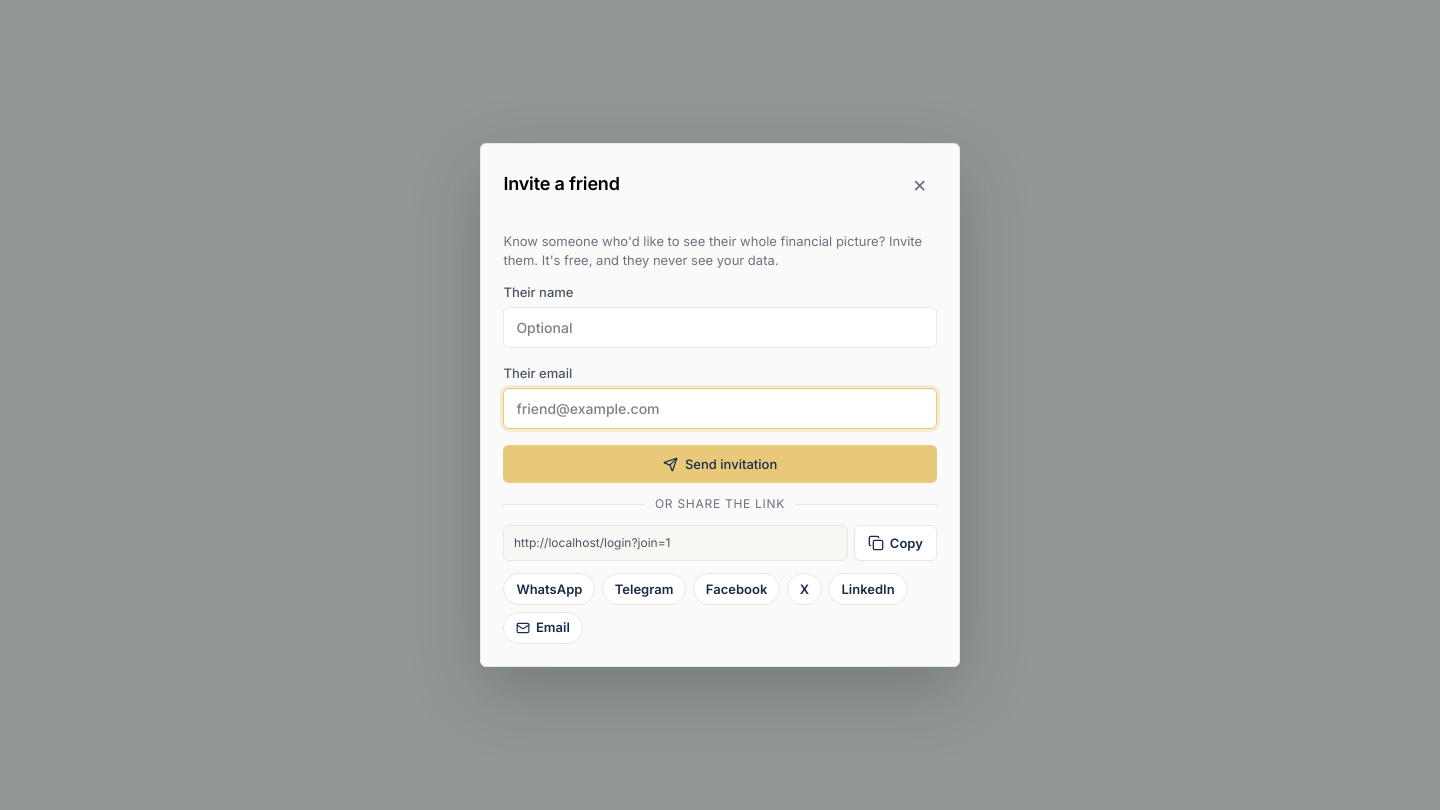
it: InviteDialog › checks the address before sending
Type "ben" into the field labelled "Their email" at (720, 409), box [503, 388, 937, 429]
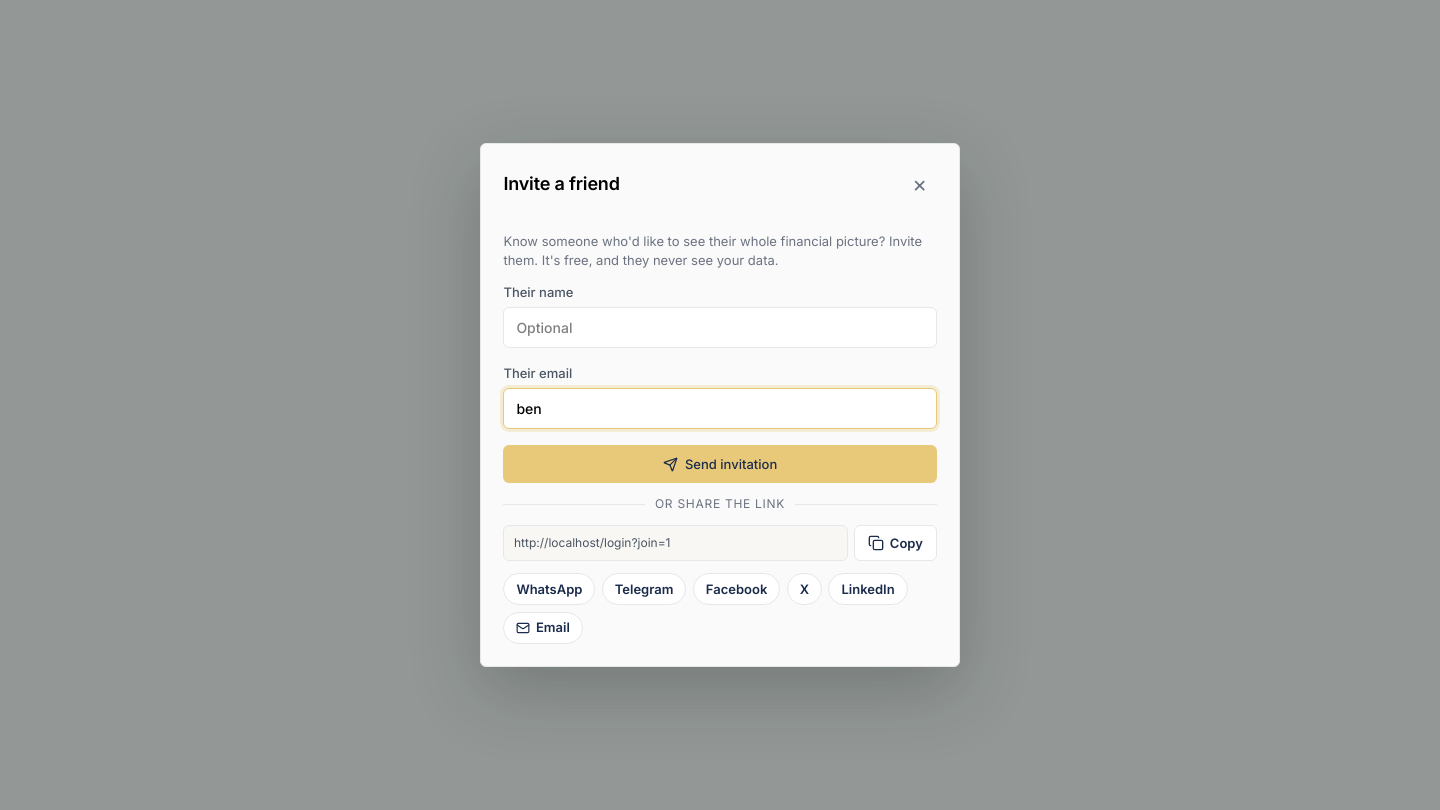
Click the button "Send invitation" at (720, 464), box [503, 445, 937, 483]
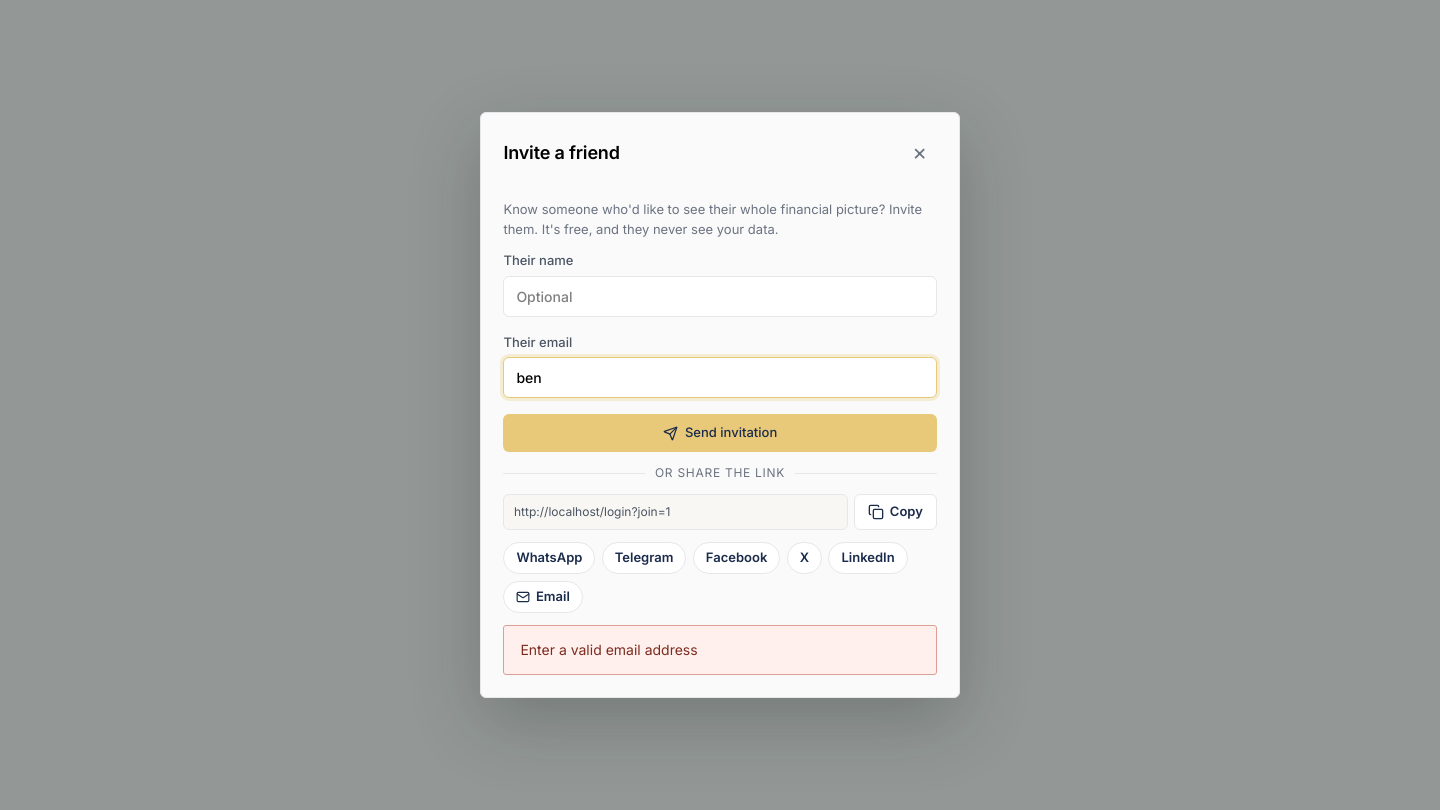
Expected: the message reads "Enter a valid email address", [520, 641, 698, 658]
